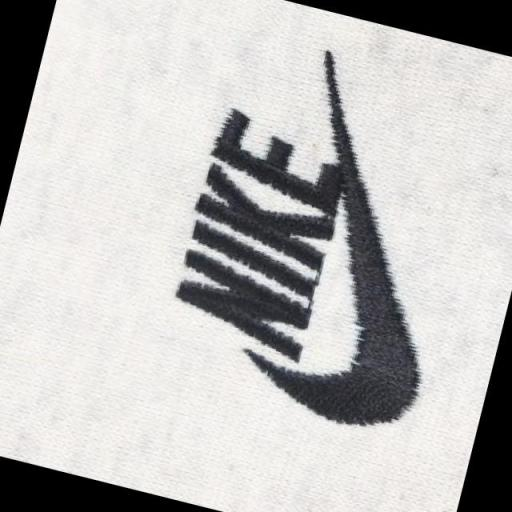Nike: (271, 131, 476, 438), (166, 100, 358, 363)
